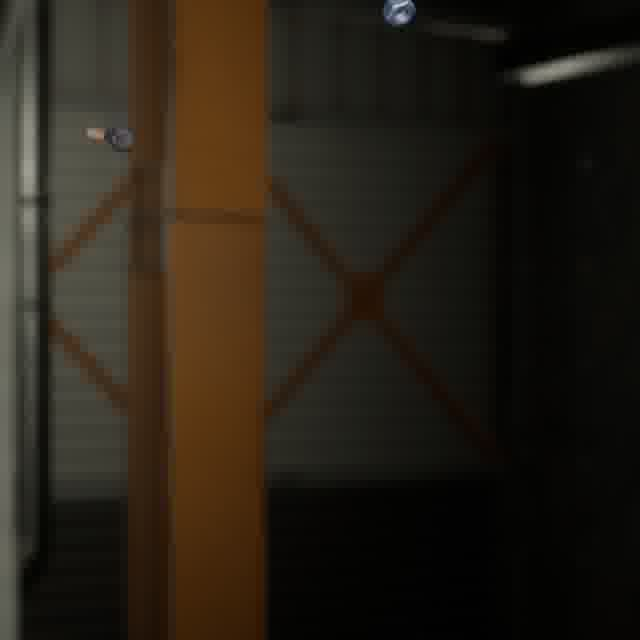bolt: (82, 120, 140, 156)
nut: (377, 0, 421, 33)
